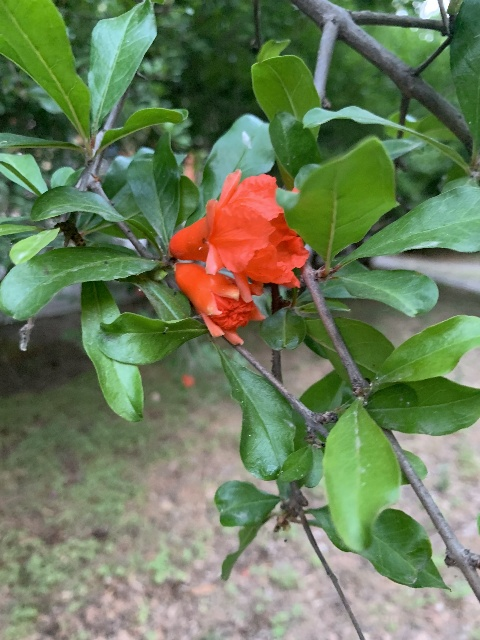flower: (167, 167, 309, 290), (174, 262, 266, 345)
